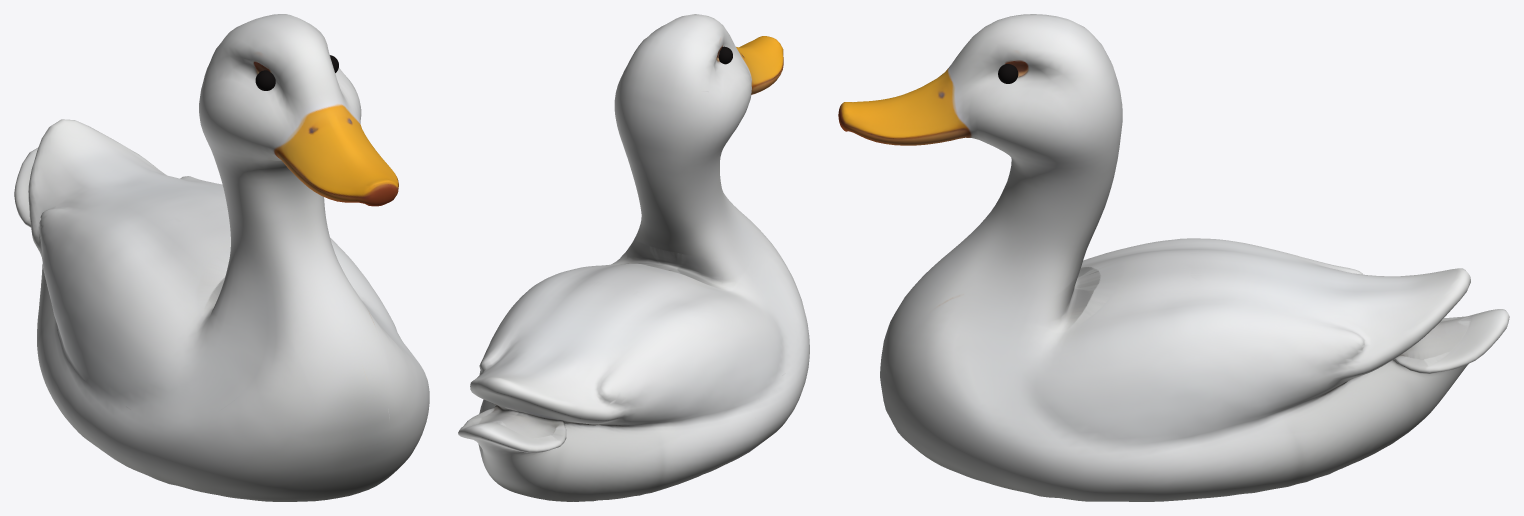
The model's file is Pato.glb.
3 views of the same model, side by side, from view 1: azimuth 30°, elevation 25°; view 2: azimuth 150°, elevation 25°; view 3: azimuth 270°, elevation 25° (orthographic). The views are drawn at different scales.
Visible parts, largest first — view 1: model; view 2: model; view 3: model.
Boxes of the visible parts, box(x1,y1,x2,y2) form: model: box(14, 14, 429, 501); model: box(458, 14, 809, 501); model: box(838, 14, 1509, 501).
Size of the model in its own units: 0.951 by 1.35 by 1.9.
2 materials, 1 textured.
